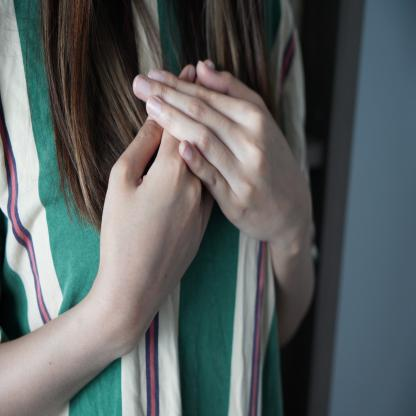Grieve: (40, 54, 322, 359)
